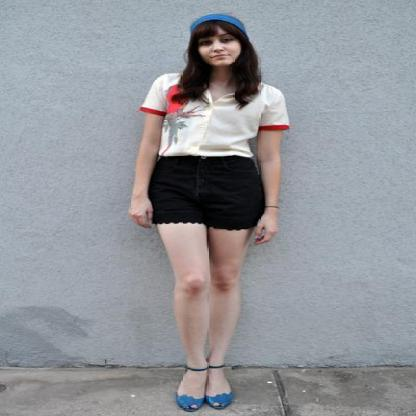shirt: (140, 67, 288, 157)
shoe: (176, 354, 236, 412)
shorts: (148, 152, 267, 232)
